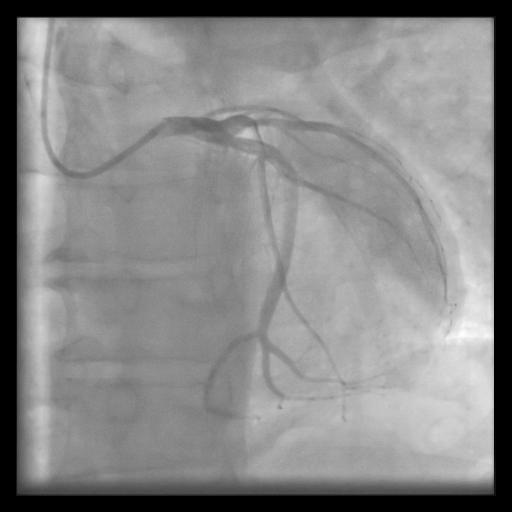Stenosis: (249, 125, 268, 157)
